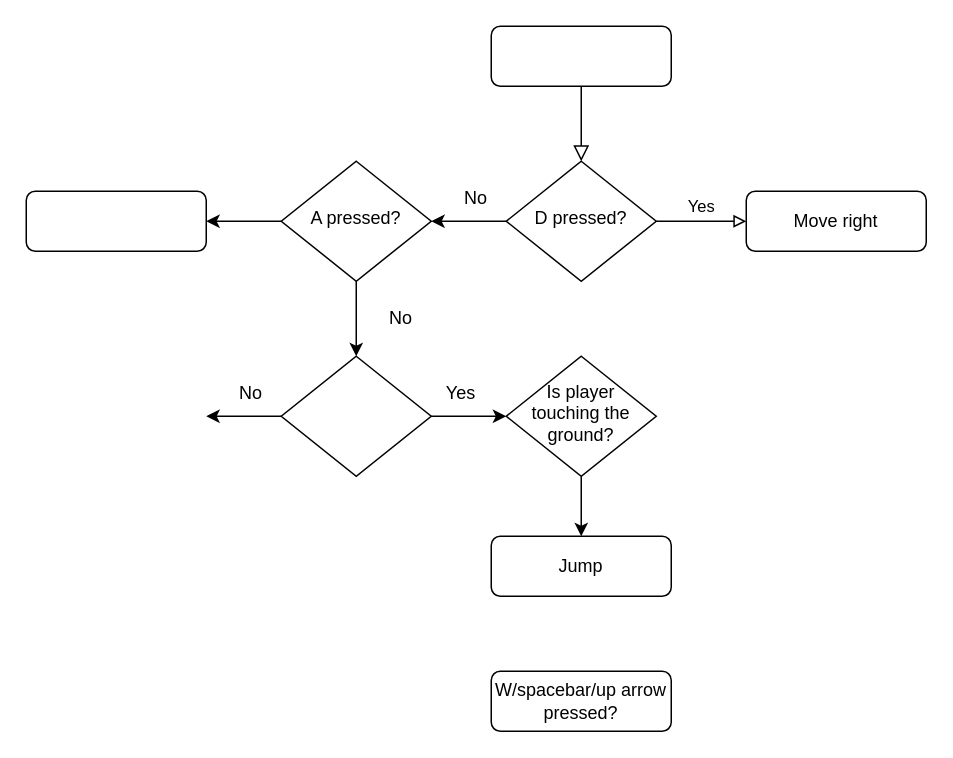
Image size: 953x758. Some labels were removed from this diagram. Each missing label, with the centre of its shape:
"BEGIN Movement" belongs at pixel 580 55.
"Move left" belongs at pixel 115 220.
"W/up arrow/spacebar pressed?" belongs at pixel 355 415.
